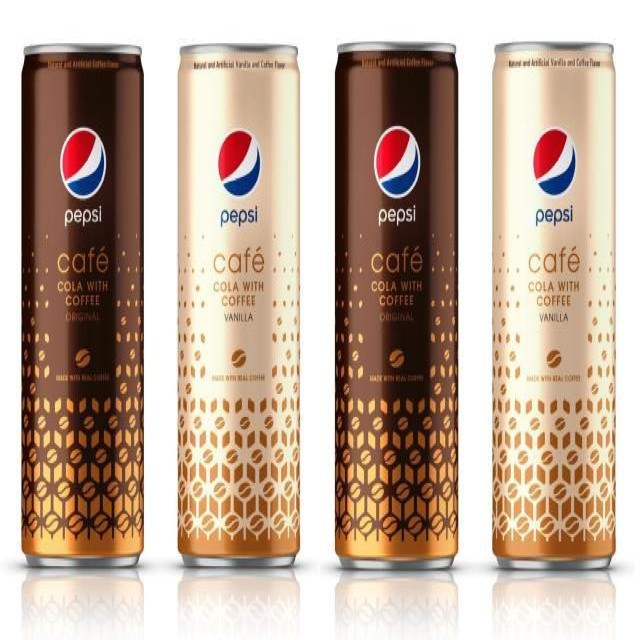pepsi: (61, 126, 111, 201), (372, 126, 422, 199), (532, 127, 581, 200), (214, 130, 260, 197)
